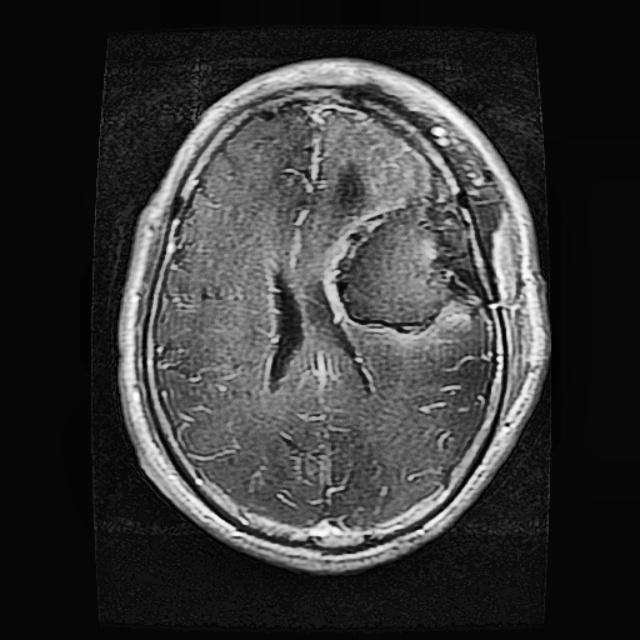Pituitary: (325, 175, 480, 335)
